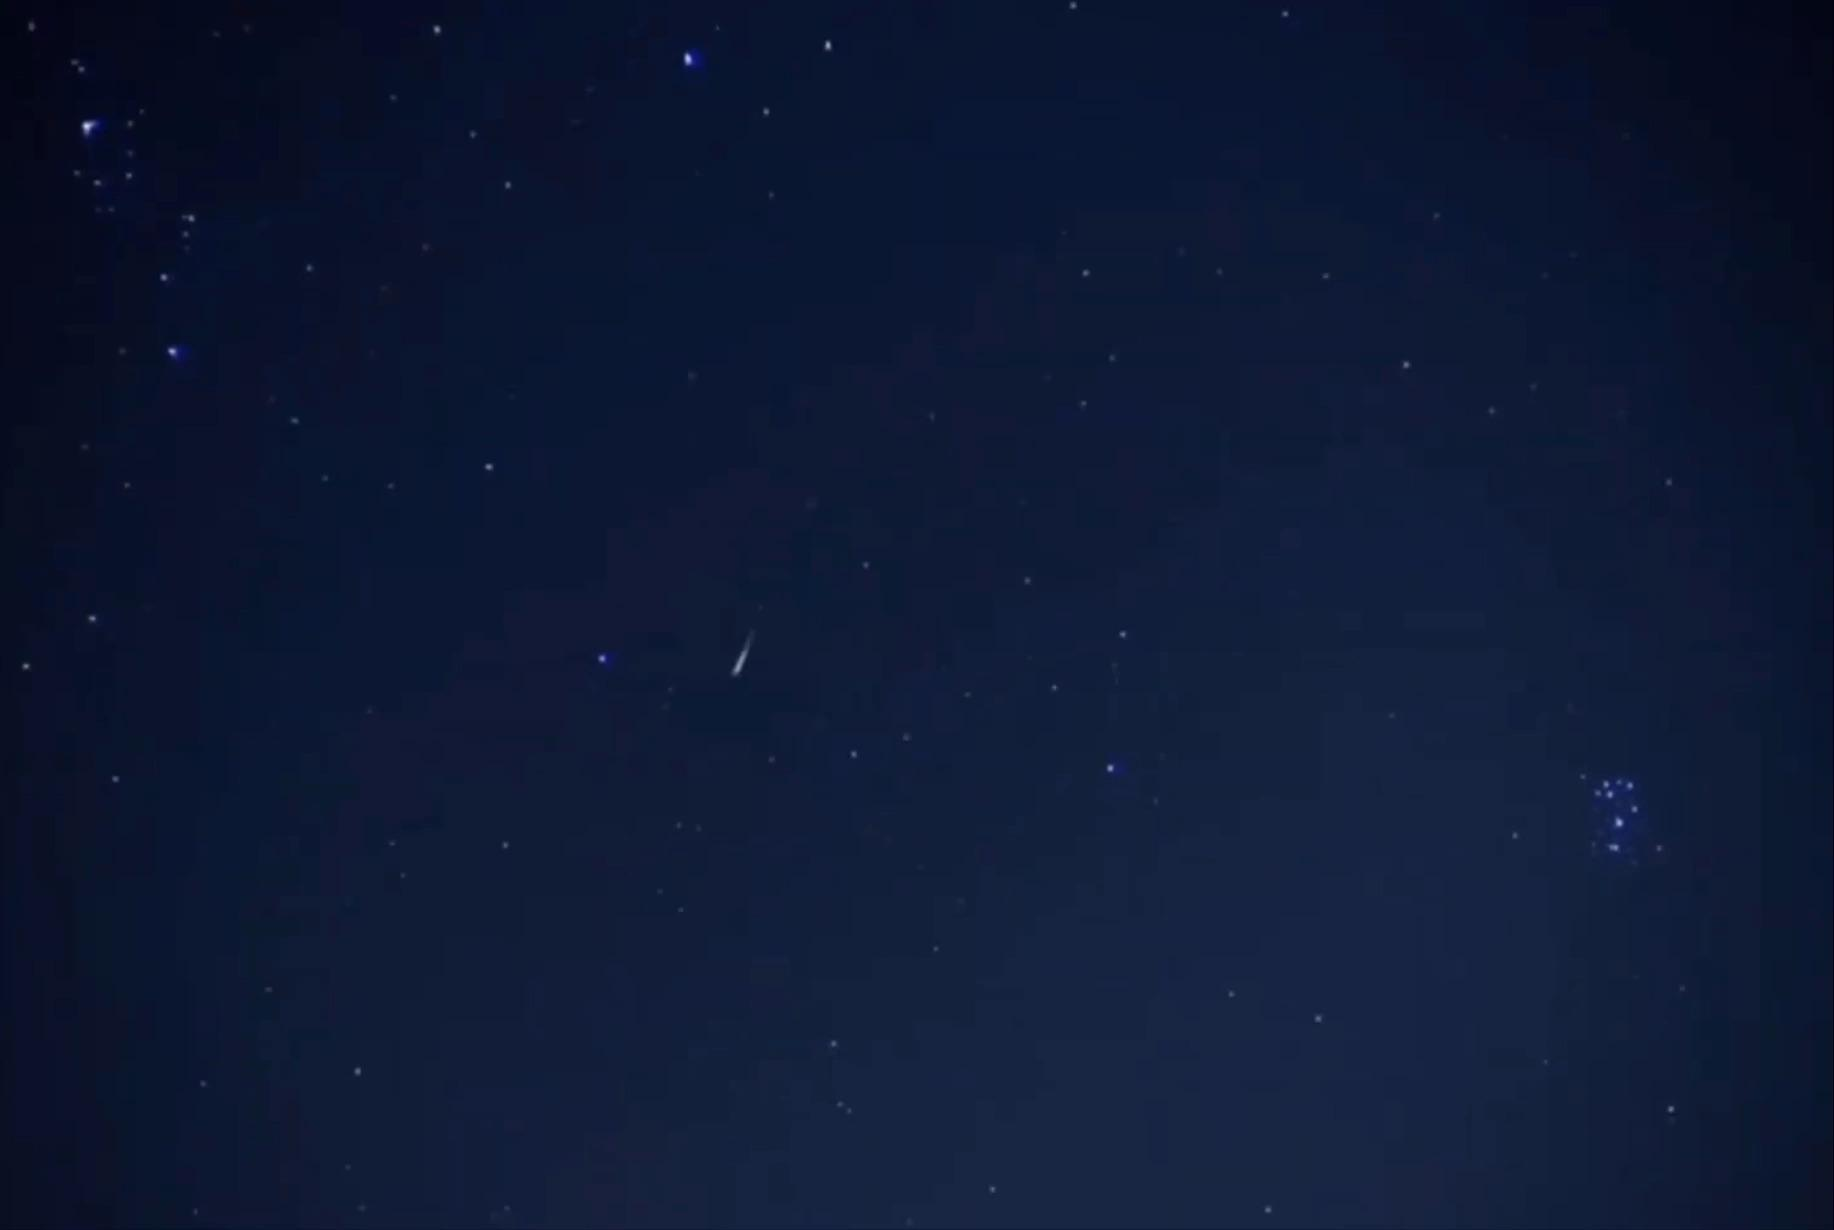meteorite: (680, 620, 815, 684)
